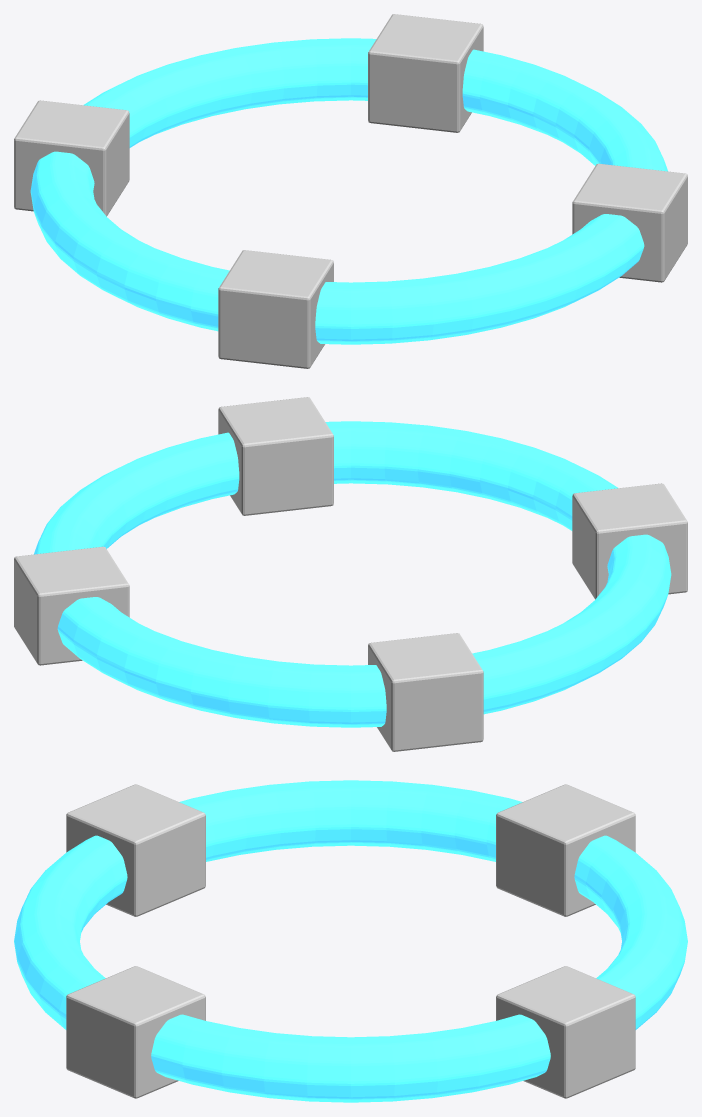
The model's file is grecia_ring.fbx.
3 renders of one model, top to bottom at view 1: azimuth 30°, elevation 25°; view 2: azimuth 150°, elevation 25°; view 3: azimuth 270°, elevation 25°, orthographic. The views are drawn at different scales.
Parts seen in each view (by area): view 1: grecia_ring; view 2: grecia_ring; view 3: grecia_ring.
Part boxes in pixels (box(x1,y1,x2,y2)): grecia_ring: box(14, 14, 687, 368); grecia_ring: box(14, 397, 687, 751); grecia_ring: box(14, 780, 687, 1102).
Bounding box in the file's own units: 2.42 × 0.3 × 2.42.
